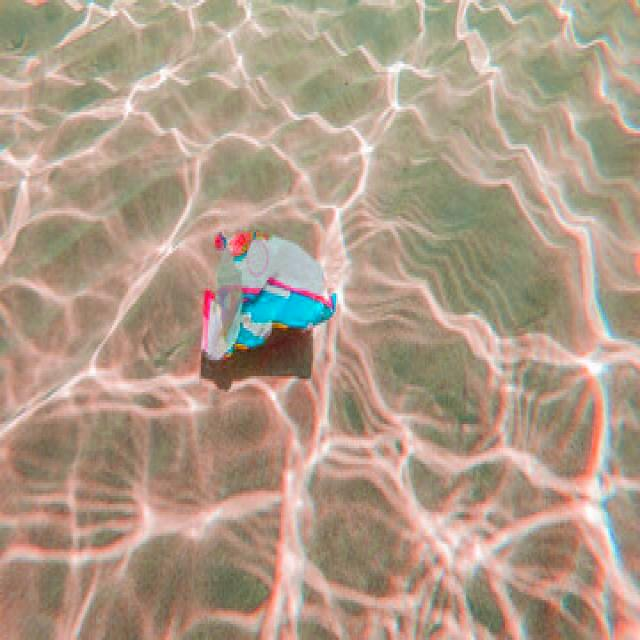Trash: (202, 223, 341, 369)
